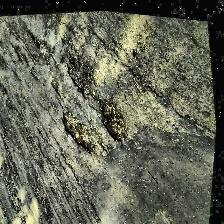pothole: (57, 100, 99, 158), (94, 94, 134, 144)
